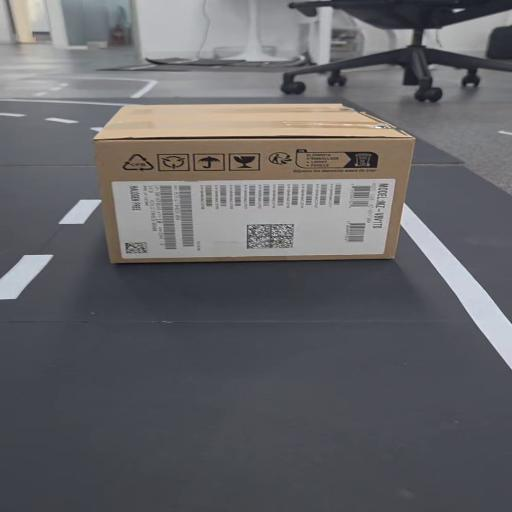Box: (77, 104, 452, 270)
